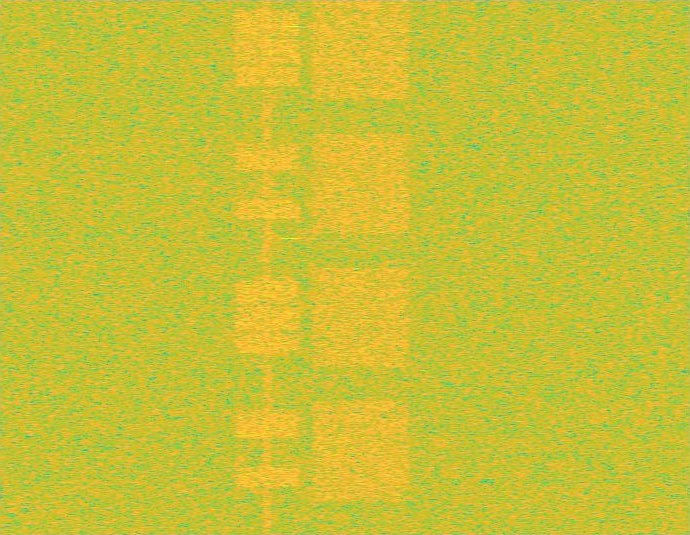5G: (309, 0, 413, 534)
DSSS: (263, 0, 272, 534)
LTE: (233, 0, 302, 534)
Radar: (284, 0, 297, 534)
